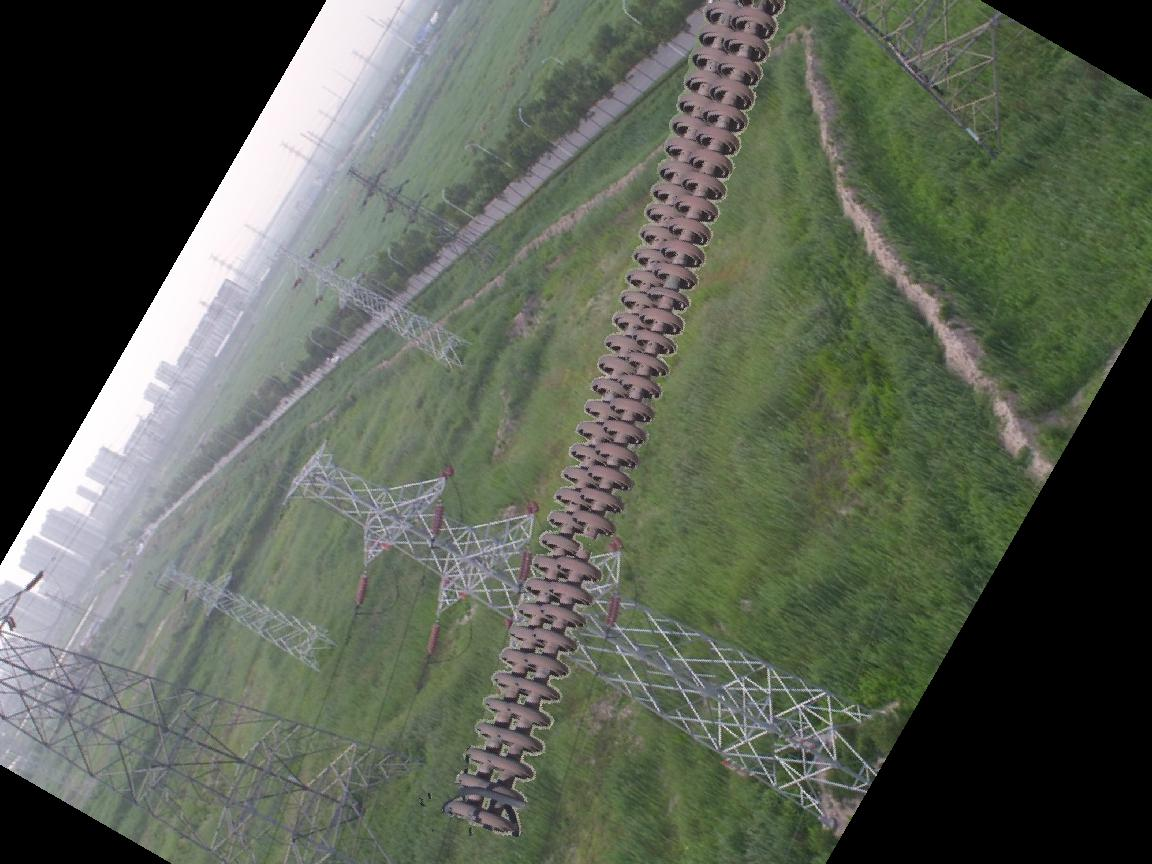insulator: (443, 1, 789, 840)
insulator_stringdrop: (557, 507, 617, 582)
